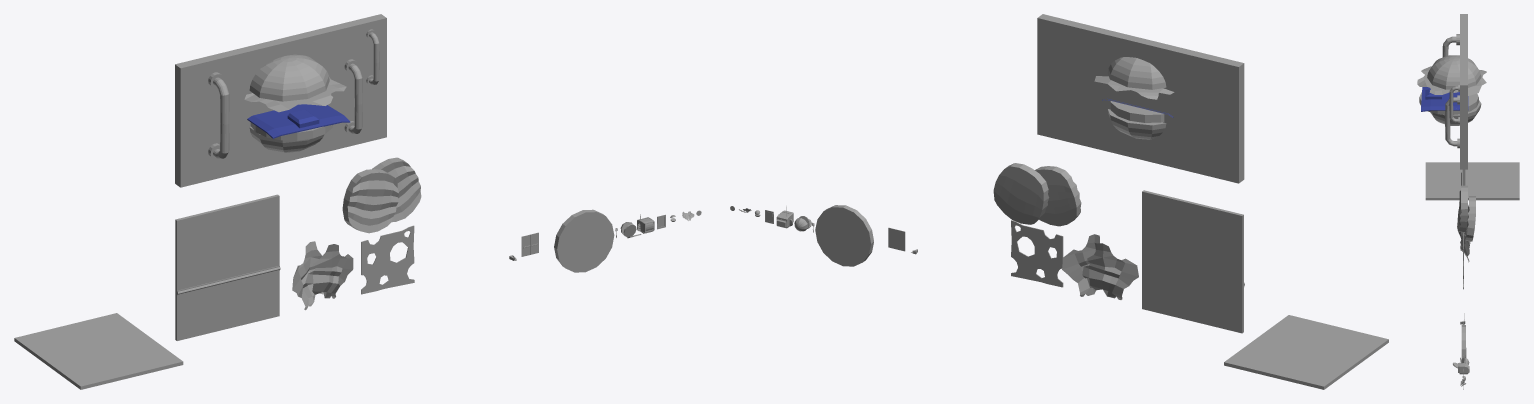
Rendered from Door_Tomato.obj.
The picture shows the model from 3 angles, left to right: view 1: azimuth 30°, elevation 25°; view 2: azimuth 150°, elevation 25°; view 3: azimuth 270°, elevation 25°; orthographic projection. The views are drawn at different scales.
Parts seen in each view (by area): view 1: Cylinder.012_Cylinder.026, Cube.001_Cube.021, Cube.004_Cube.031, Sphere.000_Sphere.010, Cylinder.004_Cylinder.008, Cylinder.001_Cylinder.006, Plane.002_Plane.012, Plane.004_Plane.011; view 2: Cylinder.012_Cylinder.026, Cube.001_Cube.021, Cube.004_Cube.031, Cylinder.004_Cylinder.008, Sphere.000_Sphere.010, Plane.002_Plane.012, Cylinder.001_Cylinder.006, Plane.004_Plane.011; view 3: Cube.004_Cube.031, Sphere.000_Sphere.010, Cylinder.012_Cylinder.026, Cylinder.004_Cylinder.008, Plane.002_Plane.012, Cylinder.001_Cylinder.006, Cube_Cube.018.
Boxes of the visible parts, <box> form: Cylinder.012_Cylinder.026: <box>175,14,386,187</box>; Cube.001_Cube.021: <box>175,194,280,340</box>; Cube.004_Cube.031: <box>14,313,183,389</box>; Sphere.000_Sphere.010: <box>244,54,350,152</box>; Cylinder.004_Cylinder.008: <box>342,157,421,233</box>; Cylinder.001_Cylinder.006: <box>554,209,614,272</box>; Plane.002_Plane.012: <box>292,241,353,310</box>; Plane.004_Plane.011: <box>361,225,414,294</box>; Cylinder.012_Cylinder.026: <box>1037,14,1244,183</box>; Cube.001_Cube.021: <box>1142,190,1244,333</box>; Cube.004_Cube.031: <box>1224,315,1388,389</box>; Cylinder.004_Cylinder.008: <box>993,163,1081,226</box>; Sphere.000_Sphere.010: <box>1094,57,1174,139</box>; Plane.002_Plane.012: <box>1062,234,1138,299</box>; Cylinder.001_Cylinder.006: <box>815,205,873,266</box>; Plane.004_Plane.011: <box>1011,220,1063,287</box>; Cube.004_Cube.031: <box>1425,162,1519,200</box>; Sphere.000_Sphere.010: <box>1417,55,1486,125</box>; Cylinder.012_Cylinder.026: <box>1442,14,1467,169</box>; Cylinder.004_Cylinder.008: <box>1457,185,1475,241</box>; Plane.002_Plane.012: <box>1457,221,1470,262</box>; Cylinder.001_Cylinder.006: <box>1461,325,1466,362</box>; Cube_Cube.018: <box>1458,356,1469,374</box>.
Bounding box in the file's own units: 606 × 272 × 117.
